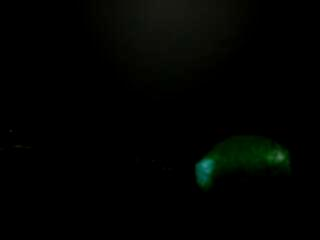Lime: (191, 132, 314, 216)
